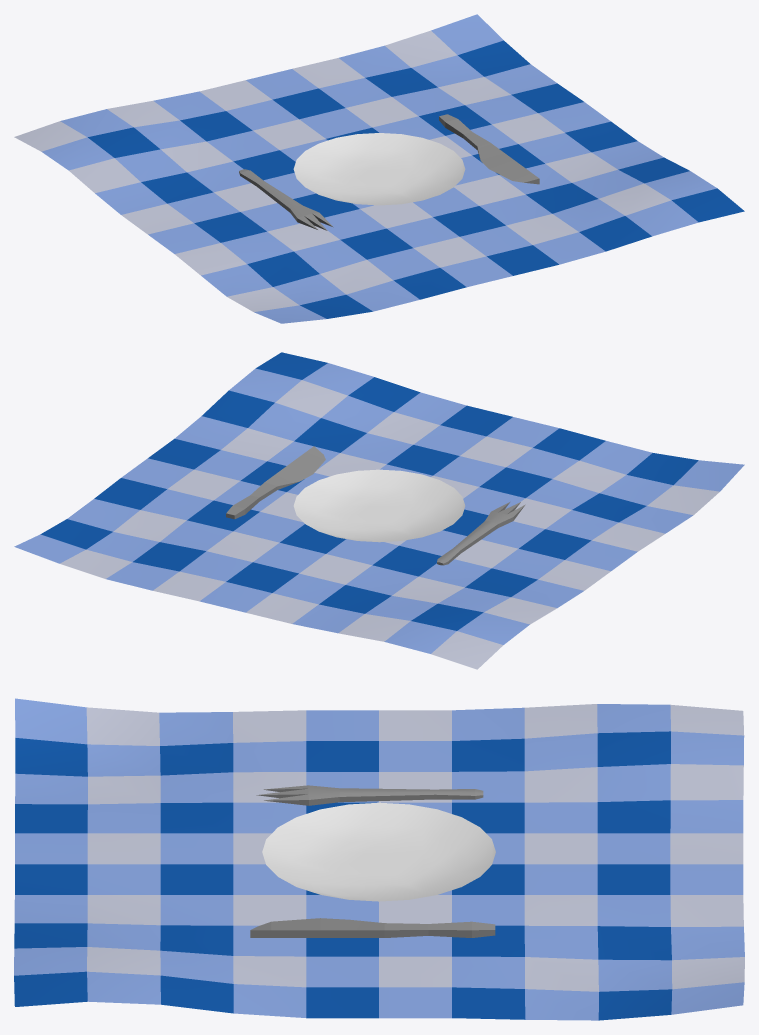
Rendered from 001_Picnic_Blue_001.fbx.
The picture shows the model from 3 angles, top to bottom: view 1: azimuth 30°, elevation 25°; view 2: azimuth 150°, elevation 25°; view 3: azimuth 270°, elevation 25°; orthographic projection. The views are drawn at different scales.
Parts seen in each view (by area): view 1: pDisc2; view 2: pDisc2; view 3: pDisc2.
Boxes of the visible parts, box(x1,y1,x2,y2) form: pDisc2: box(14, 14, 744, 323); pDisc2: box(14, 352, 744, 669); pDisc2: box(14, 698, 744, 1020).
Bounding box in the file's own units: 36.54 × 1.21 × 36.51.
